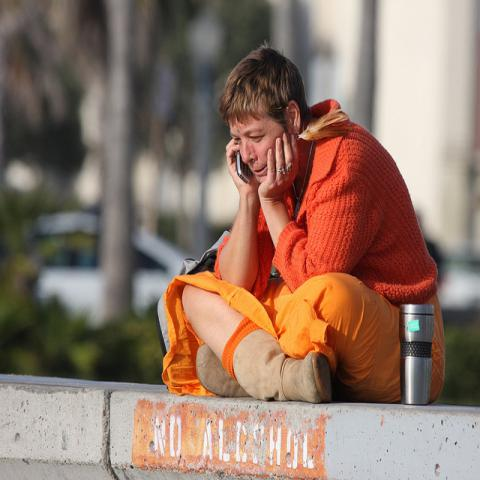car: (36, 211, 189, 325)
